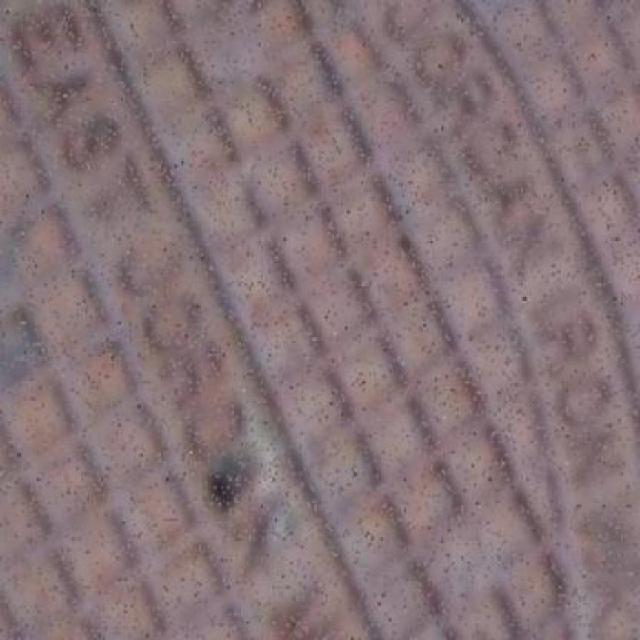Manhole: (6, 12, 628, 632)
